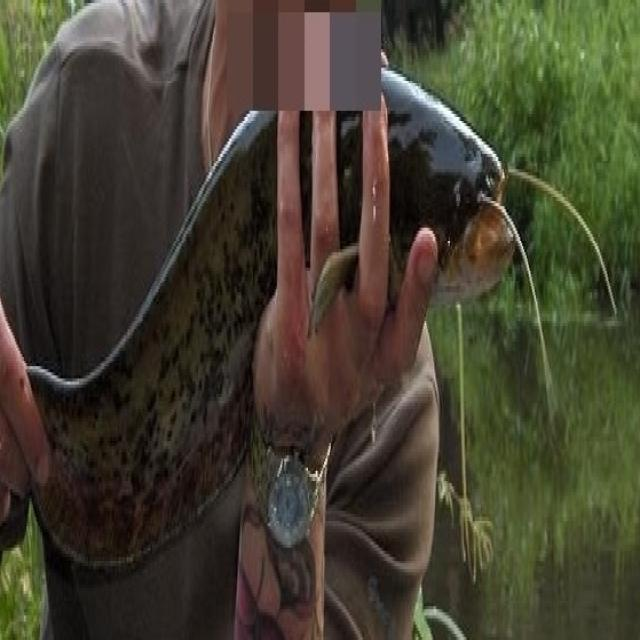Catfish: (0, 70, 540, 604)
